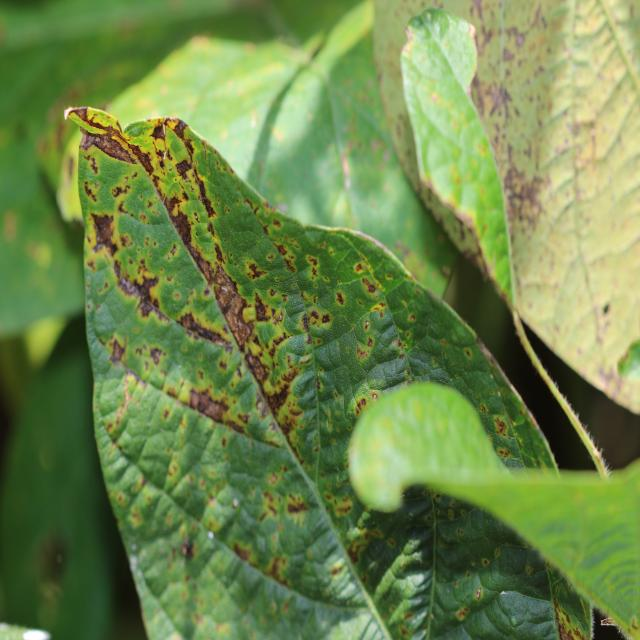Bacterial_Blight: (108, 248, 167, 318), (88, 125, 154, 173), (217, 276, 258, 351), (162, 185, 203, 252), (505, 167, 545, 221), (175, 309, 227, 344), (187, 386, 228, 423), (244, 349, 272, 395), (89, 210, 116, 248), (486, 80, 511, 119), (107, 336, 126, 364), (174, 157, 197, 180), (254, 293, 272, 322), (245, 260, 267, 281), (170, 118, 191, 139), (233, 542, 252, 562), (148, 346, 165, 366), (287, 497, 308, 513), (111, 183, 130, 199), (362, 278, 377, 294)
Soybean: (58, 108, 638, 640)
